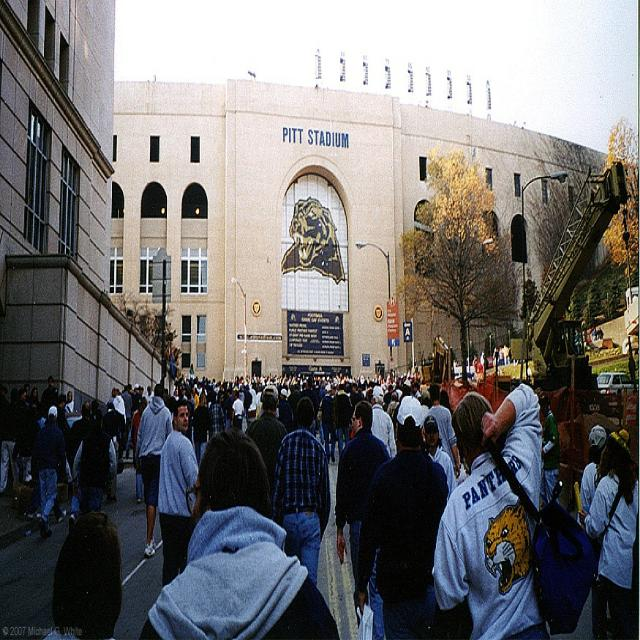body: (286, 324, 638, 451), (138, 429, 340, 640), (425, 374, 559, 639), (0, 378, 128, 639), (355, 392, 450, 640), (128, 362, 288, 506), (572, 424, 639, 638), (334, 400, 392, 632), (271, 396, 332, 591), (156, 396, 202, 590), (132, 377, 176, 557), (575, 423, 608, 640), (71, 406, 119, 513), (33, 403, 67, 541), (422, 382, 462, 481), (66, 399, 92, 534), (421, 415, 458, 505), (538, 391, 563, 510), (0, 384, 23, 500), (369, 385, 397, 461), (317, 383, 337, 464), (192, 390, 211, 469), (333, 383, 351, 458), (206, 390, 225, 441), (230, 390, 245, 432), (69, 397, 71, 400)
